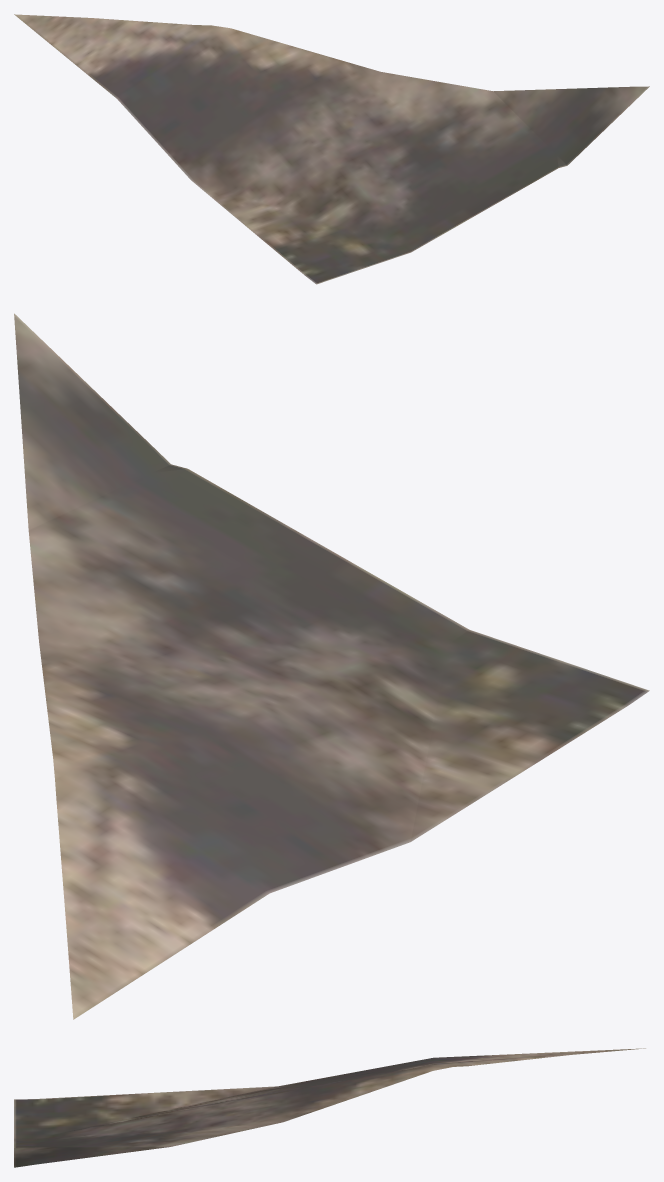
Rendered from CM_Terrain_24493530_6817336.fbx.
The picture shows the model from 3 angles, top to bottom: view 1: azimuth 30°, elevation 25°; view 2: azimuth 150°, elevation 25°; view 3: azimuth 270°, elevation 25°; orthographic projection. The views are drawn at different scales.
Parts seen in each view (by area): view 1: CM_Terrain_24493530_6817336_LOD0; view 2: CM_Terrain_24493530_6817336_LOD0; view 3: CM_Terrain_24493530_6817336_LOD0.
Part boxes in pixels (x1,y1,x2,y2): CM_Terrain_24493530_6817336_LOD0: (14, 14, 649, 284); CM_Terrain_24493530_6817336_LOD0: (14, 313, 649, 1019); CM_Terrain_24493530_6817336_LOD0: (14, 1048, 645, 1167).
Size of what is drawn, in the model's own units: 15.31 by 5.12 by 24.04.
